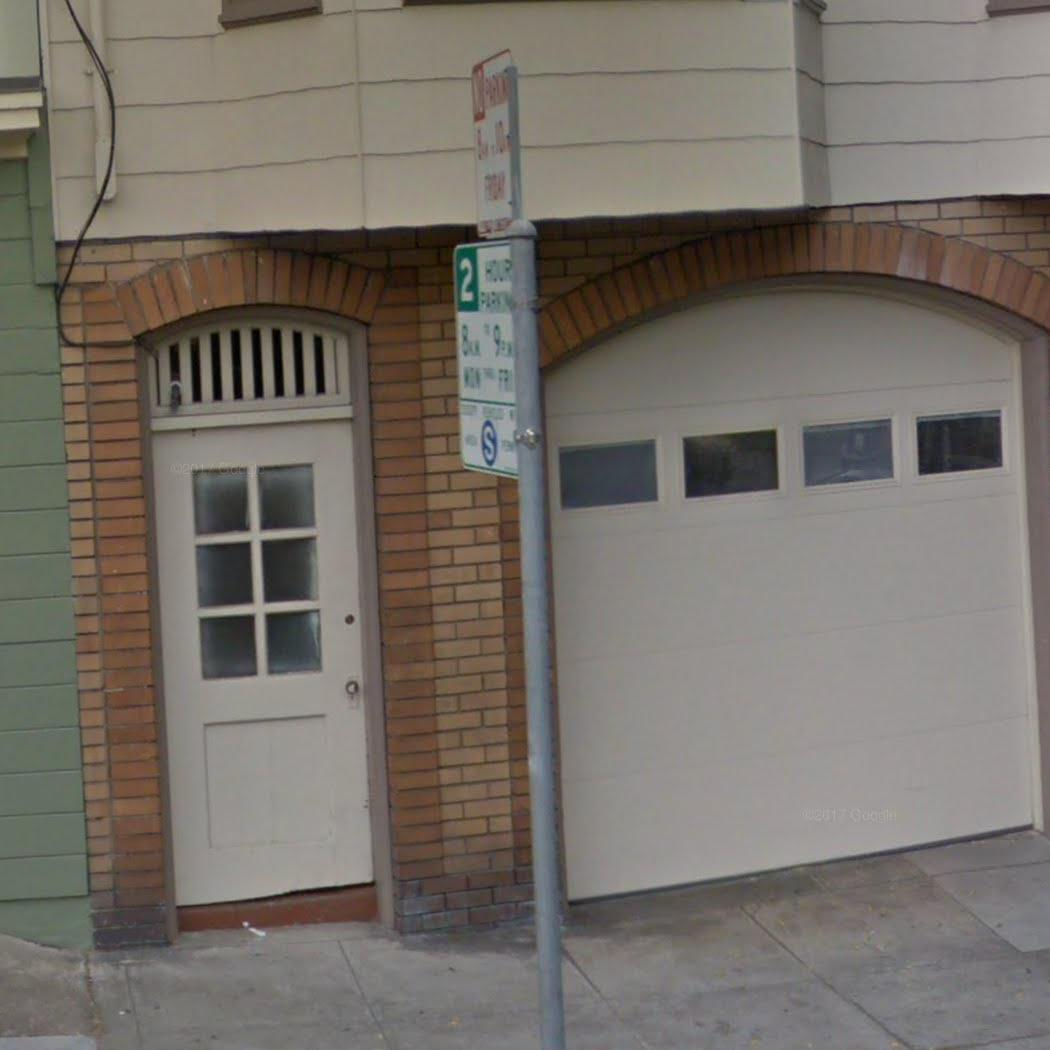2 Hour Parking: (448, 233, 526, 484)
No Parking: (472, 46, 521, 236)
